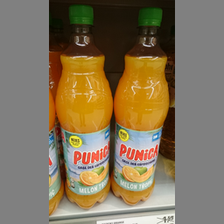juice: (56, 5, 115, 209), (115, 6, 171, 206)
